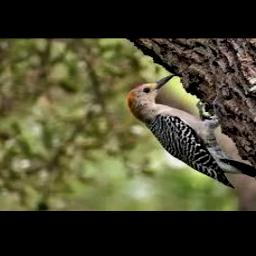Woodpecker: (127, 73, 256, 189)
